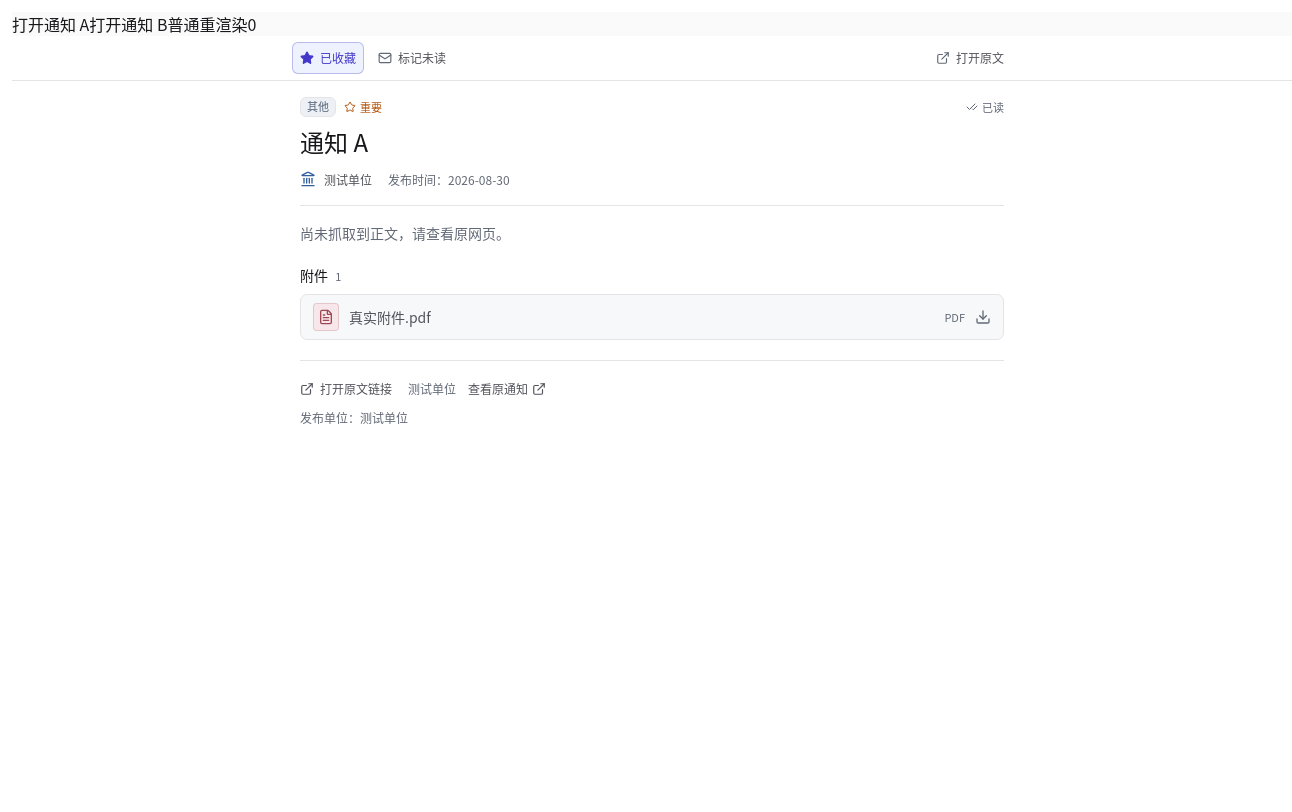
Test: NoticeDetailPage › auto-reads an already-read notice after it is marked unread and entered again
Check: the heading "通知 A" is shown, box x1=300 y1=124 x2=368 y2=159
Click the button with aria-label "标记为未读": (412, 58) x1=370 y1=42 x2=454 y2=74
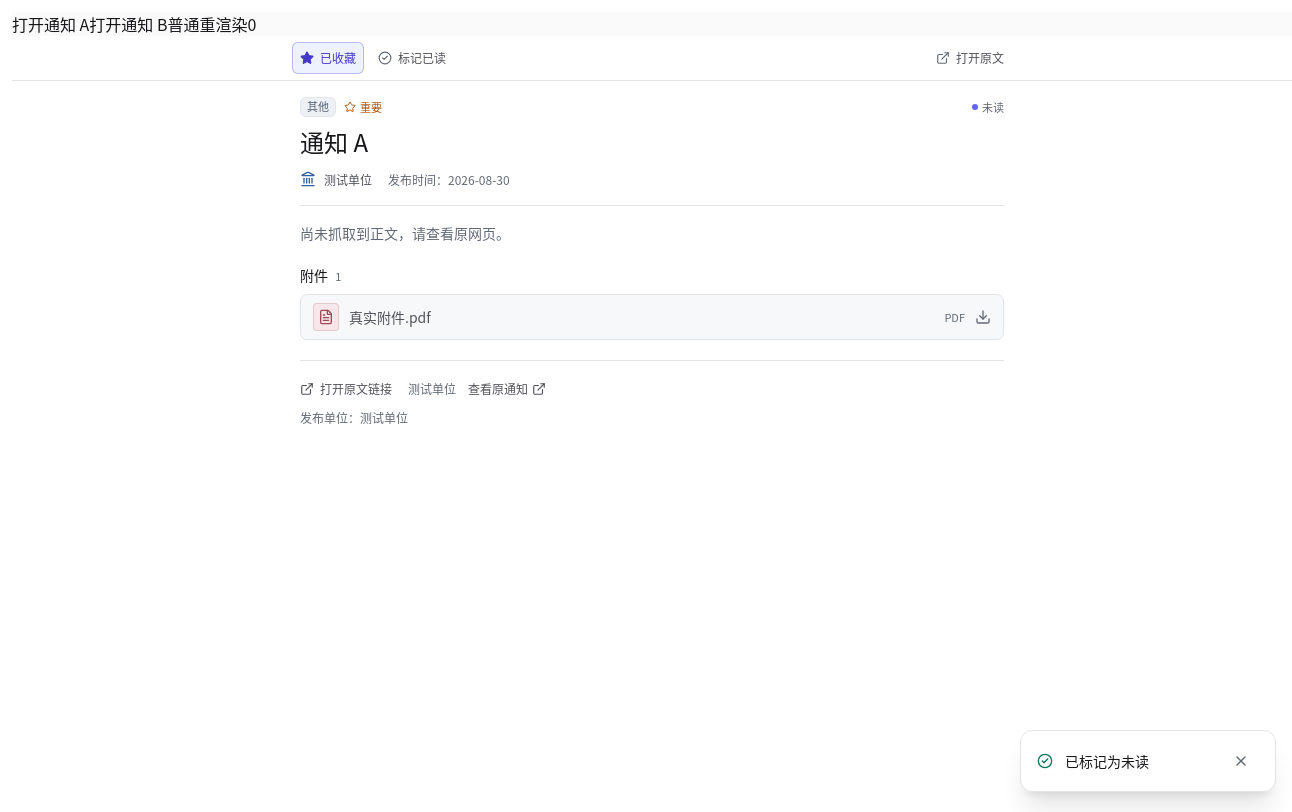
Click the link "打开通知 B": (128, 24) x1=89 y1=12 x2=167 y2=36
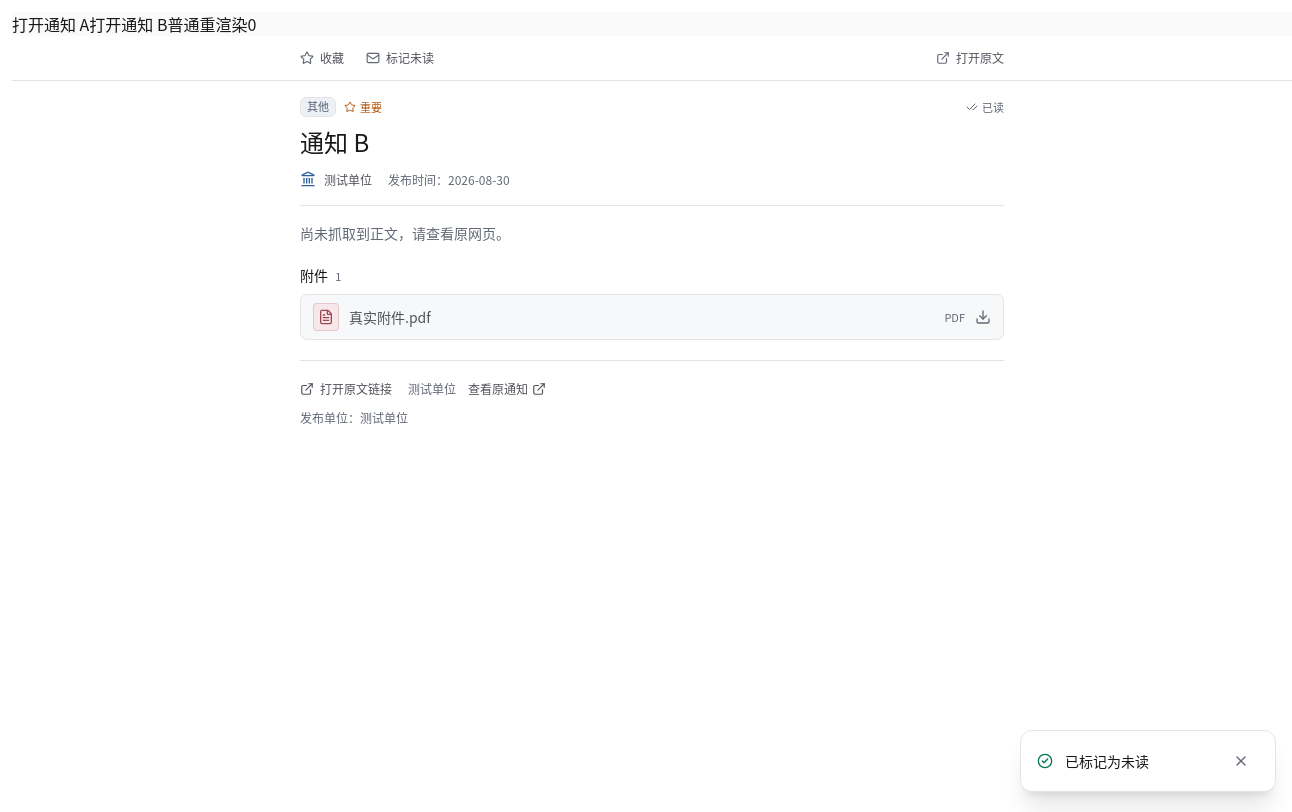
Check: the heading "通知 B" is shown, box x1=300 y1=124 x2=369 y2=159
Click the link "打开通知 A": (51, 24) x1=12 y1=12 x2=89 y2=36
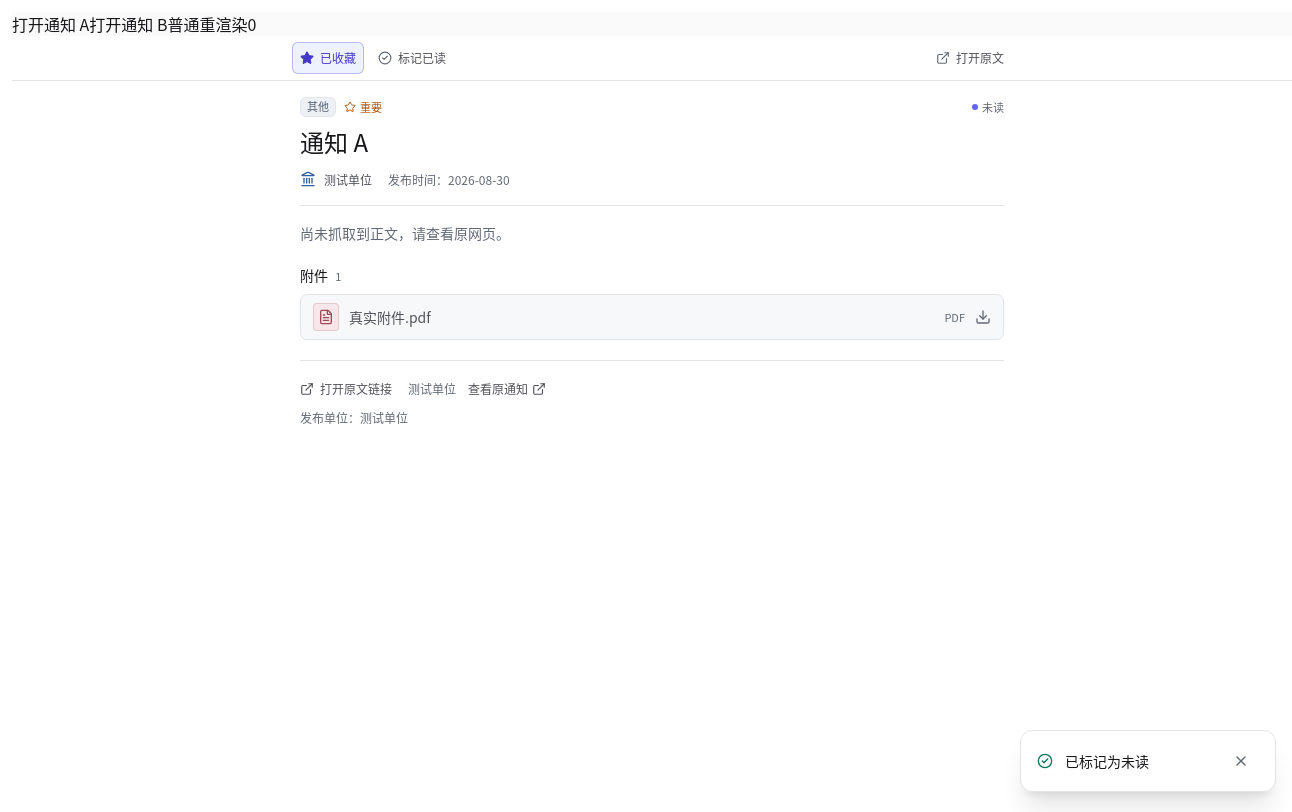
Check: the heading "通知 A" is shown, box x1=300 y1=124 x2=368 y2=159
Check: the button with aria-label "取消收藏" is shown, box x1=292 y1=42 x2=364 y2=74
